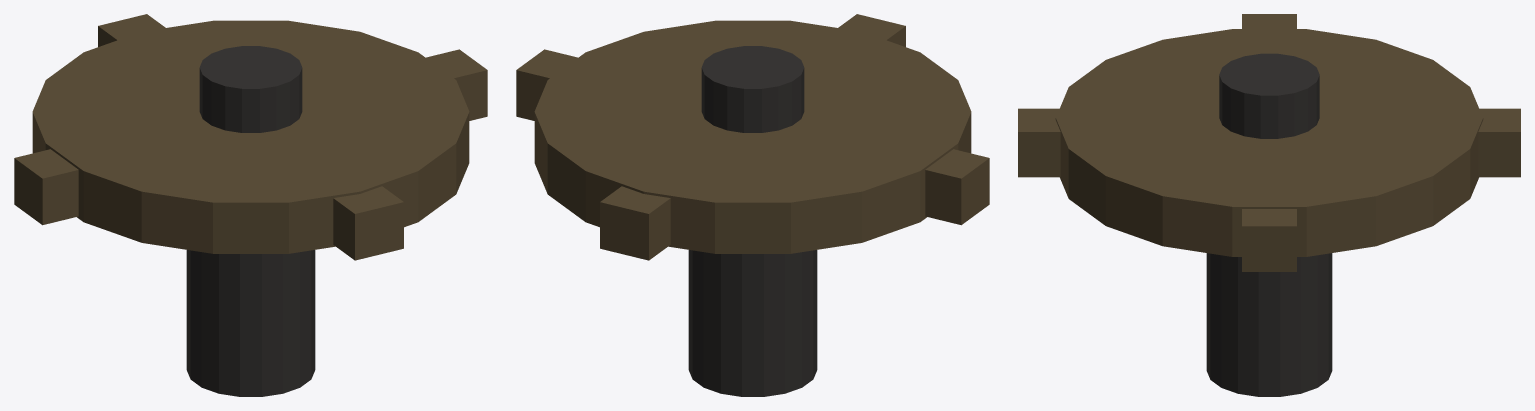
File: gear.f2600d66.glb
3 renders of one model, left to right at view 1: azimuth 30°, elevation 25°; view 2: azimuth 150°, elevation 25°; view 3: azimuth 270°, elevation 25°, orthographic. The views are drawn at different scales.
Visible parts, largest first — view 1: body; view 2: body; view 3: body.
Part boxes in pixels (box(x1,y1,x2,y2)): body: box(14, 14, 487, 396); body: box(516, 14, 989, 396); body: box(1018, 14, 1520, 396).
Bounding box in the file's own units: 2 × 1.3 × 2.
